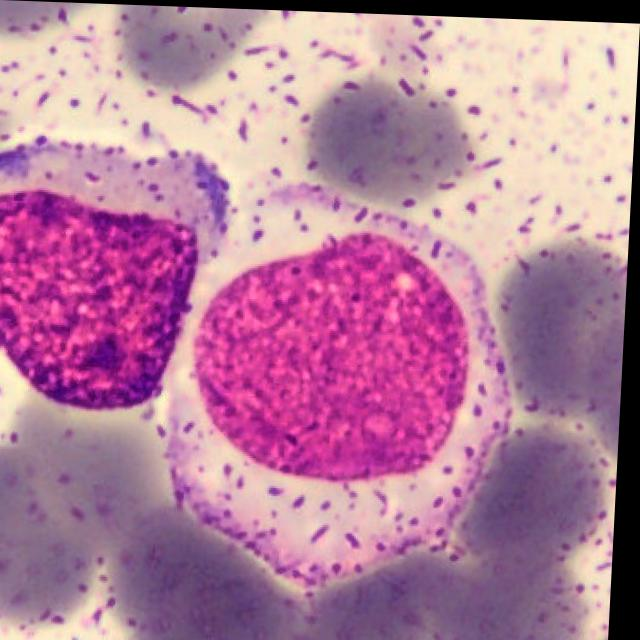Mieloblasto: (160, 177, 519, 594), (0, 141, 231, 408)
